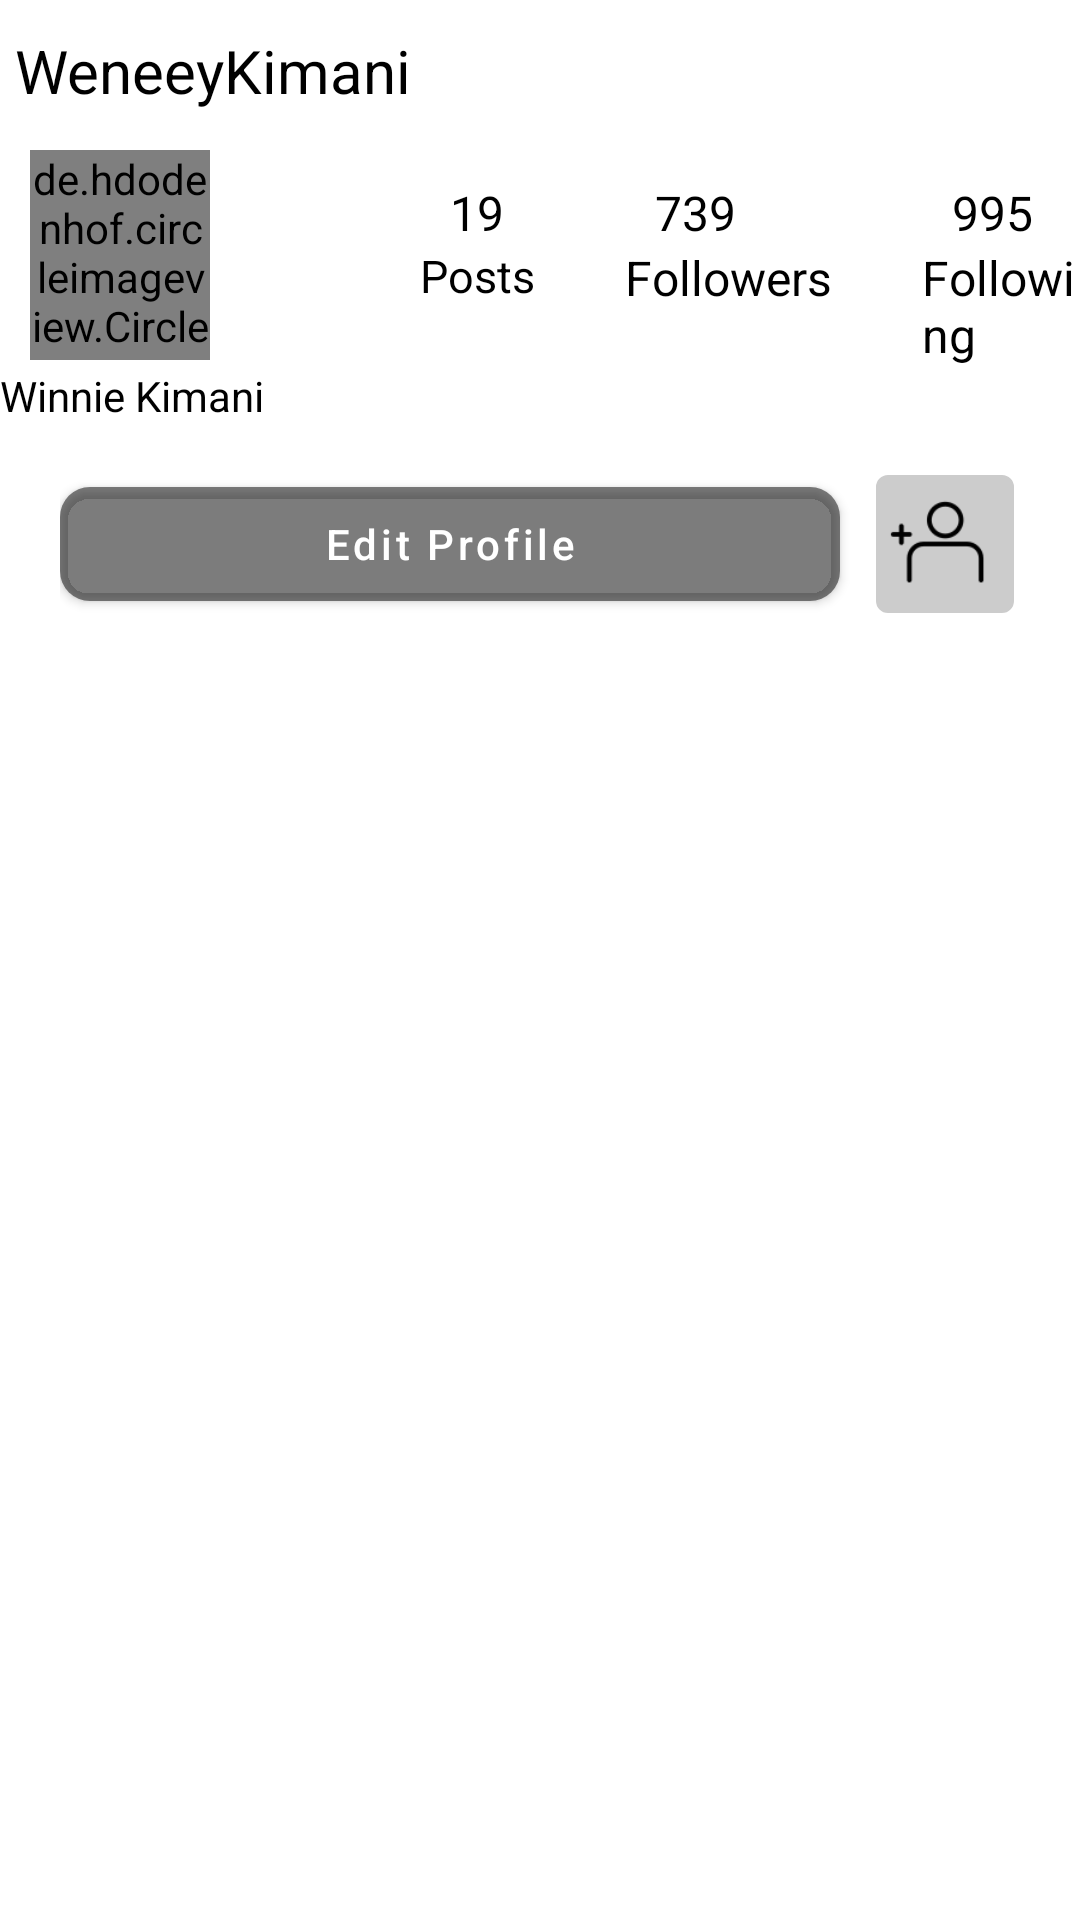

Where icons sit on this 1080*1920 app screen, as (x1, y1, x2, y2):
add user: (876, 475, 1014, 613)
